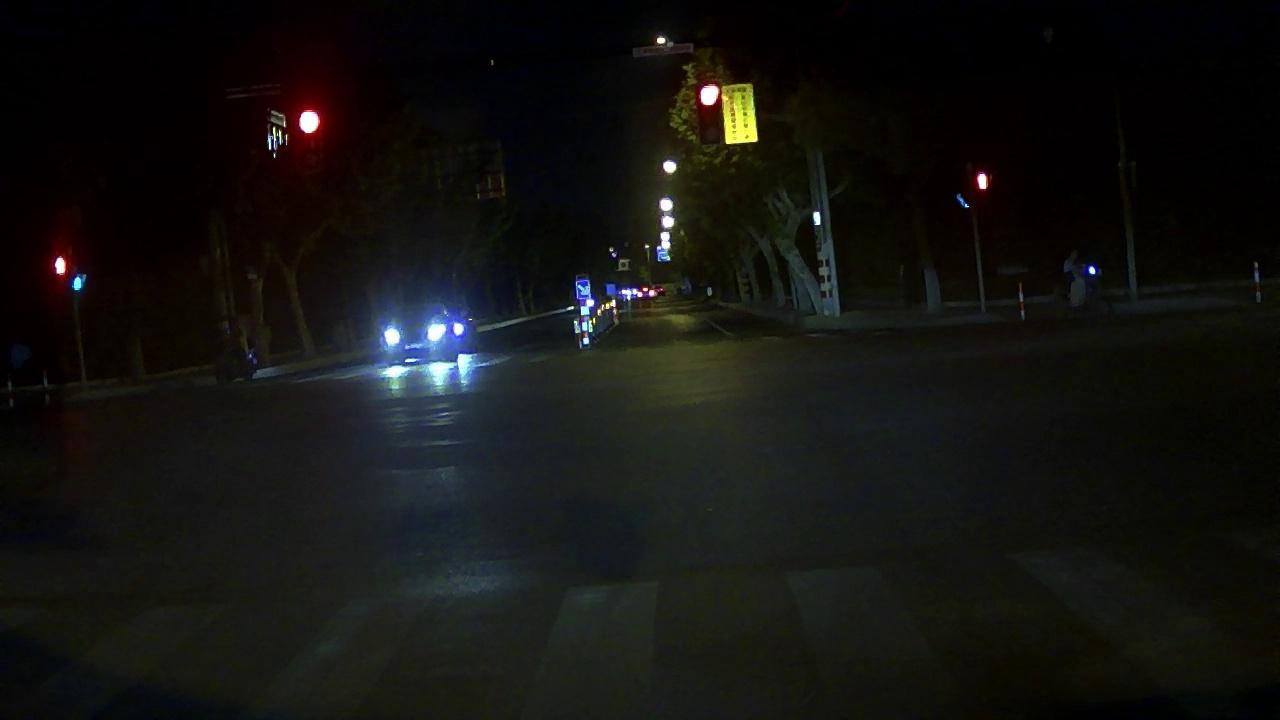traffic_light: (292, 104, 325, 138), (693, 77, 724, 111)
